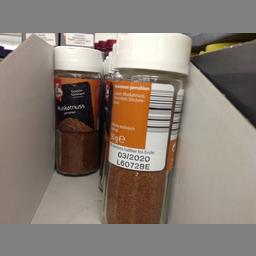spices: (100, 32, 190, 223), (52, 45, 102, 176)
